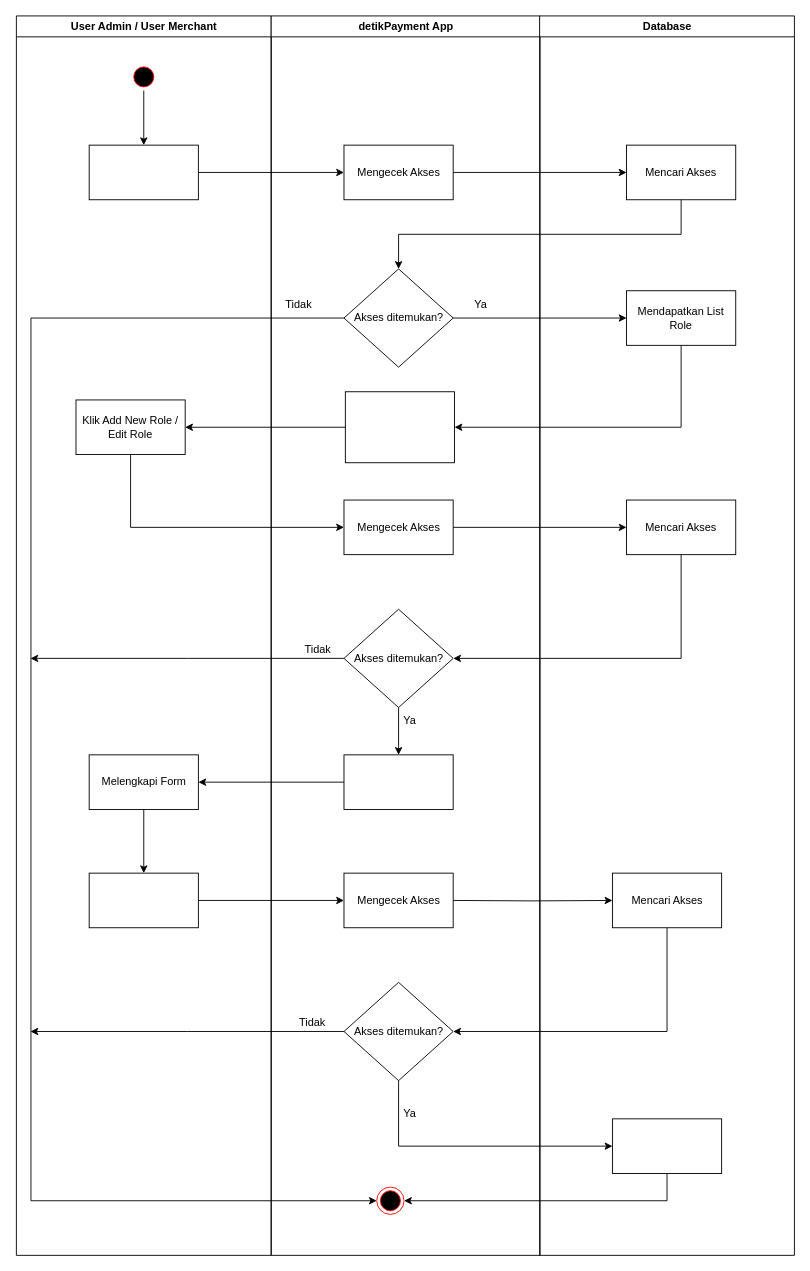
Image size: 810x1271. Some labels were removed from this diagram. The centre of each missing label's shape, as x and y in pixels:
Klik Simpan: point (143, 900)
Membuka Menu User --> Role: point (143, 172)
Menampilkan Form: point (398, 781)
Menampilkan List Role: point (399, 427)
Menyimpan Data: point (667, 1145)
